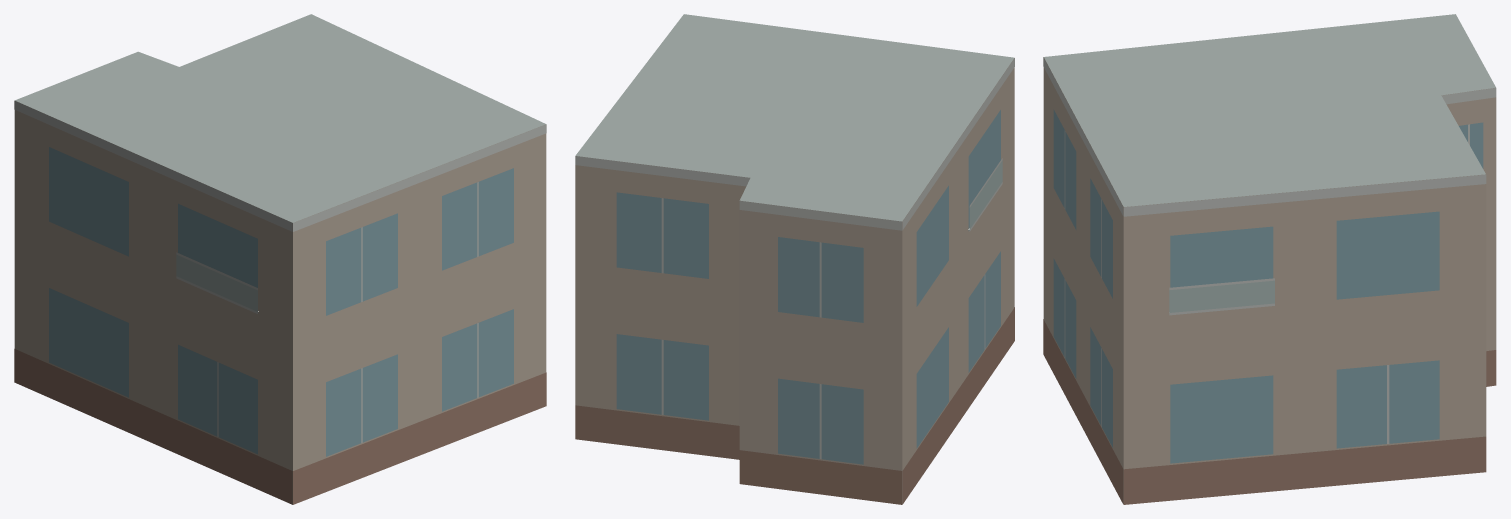
The model's file is survey-upis-32491493.glb.
3 views of the same model, side by side, from view 1: azimuth 30°, elevation 25°; view 2: azimuth 150°, elevation 25°; view 3: azimuth 270°, elevation 25° (orthographic). The views are drawn at different scales.
Visible parts, largest first — view 1: survey-upis-32491493.tmp; view 2: survey-upis-32491493.tmp; view 3: survey-upis-32491493.tmp.
Part boxes in pixels (bbox=[...]): survey-upis-32491493.tmp: bbox=[14, 14, 546, 504]; survey-upis-32491493.tmp: bbox=[575, 14, 1014, 504]; survey-upis-32491493.tmp: bbox=[1043, 14, 1496, 504].
Size of the model in its own units: 10.44 by 7.5 by 10.34.
